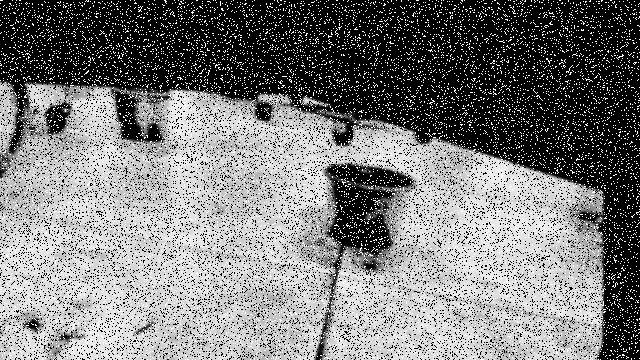pot: (322, 162, 416, 246), (108, 86, 171, 140)
